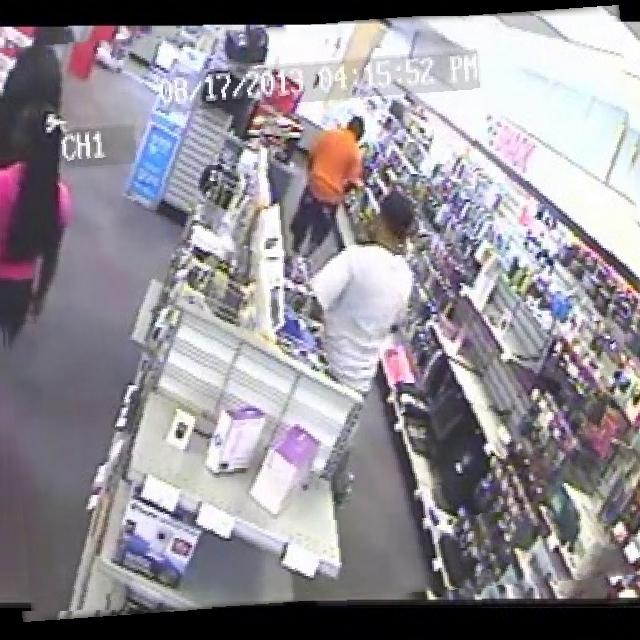Normal: (0, 16, 640, 611)
